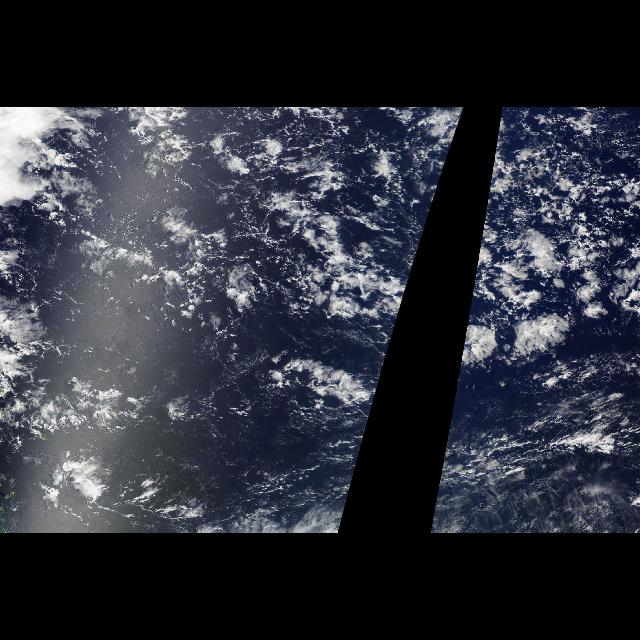Gravel: (508, 107, 640, 277)
